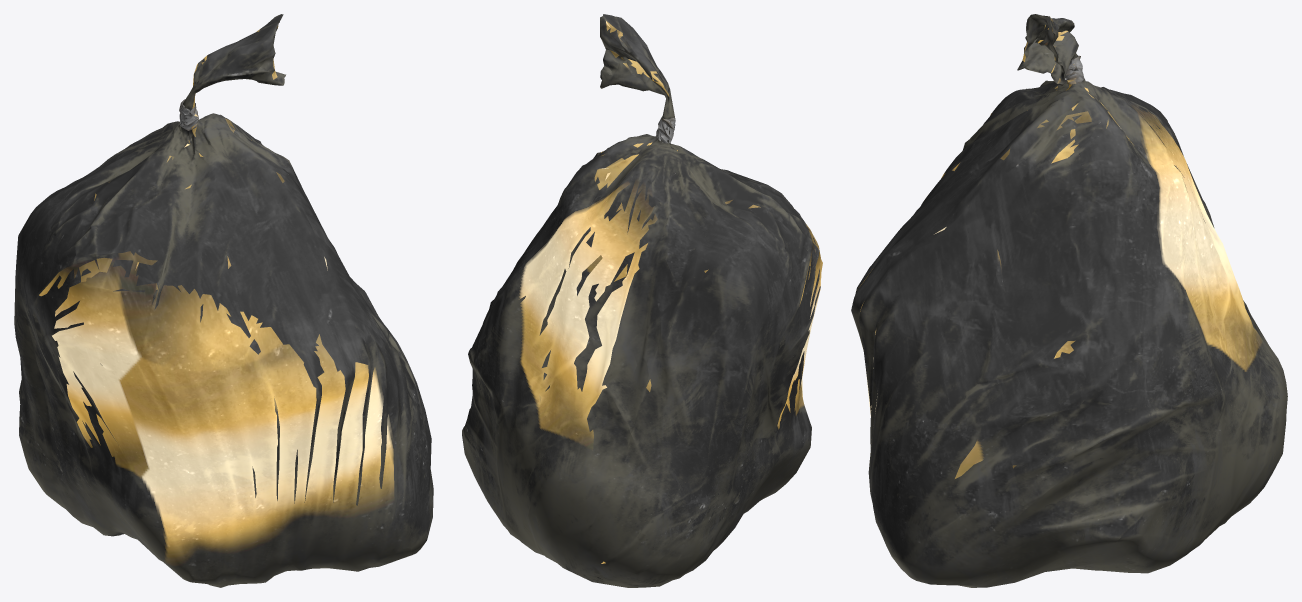
Rendered from SM_Trash_Bag_01a.fbx.
The picture shows the model from 3 angles, left to right: view 1: azimuth 30°, elevation 25°; view 2: azimuth 150°, elevation 25°; view 3: azimuth 270°, elevation 25°; orthographic projection. The views are drawn at different scales.
Parts seen in each view (by area): view 1: SM_Trash_Bag_01a_LOD0; view 2: SM_Trash_Bag_01a_LOD0; view 3: SM_Trash_Bag_01a_LOD0.
Part boxes in pixels (left/top/right/bottom): SM_Trash_Bag_01a_LOD0: left=14, top=14, right=433, bottom=587; SM_Trash_Bag_01a_LOD0: left=462, top=14, right=822, bottom=587; SM_Trash_Bag_01a_LOD0: left=851, top=14, right=1287, bottom=587.
Size of the model in its own units: 47.69 by 51.85 by 73.35.
